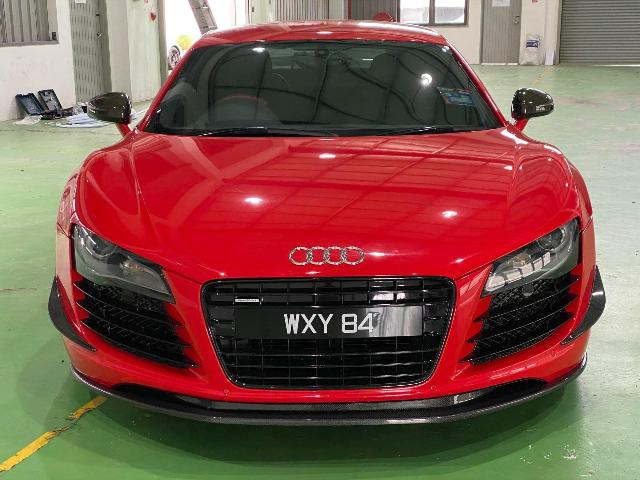License_Plate: (249, 308, 404, 342)
car: (48, 23, 612, 436)
